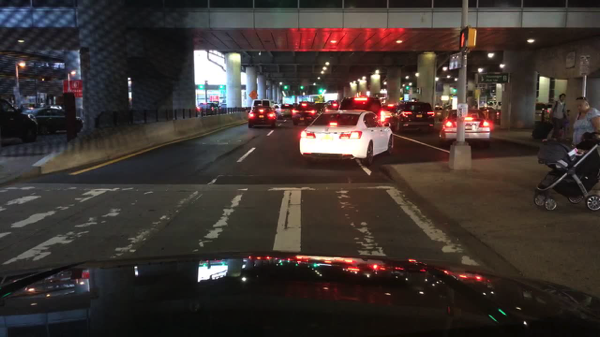car: (299, 109, 393, 166), (438, 109, 491, 147), (22, 106, 84, 137), (338, 95, 391, 130), (0, 97, 39, 143), (389, 100, 434, 135), (247, 104, 276, 129), (292, 102, 317, 125), (250, 99, 272, 115), (534, 102, 548, 123), (279, 103, 293, 119), (325, 99, 339, 110), (202, 103, 219, 112), (489, 109, 499, 124), (271, 103, 281, 118), (381, 104, 395, 113), (195, 102, 207, 111), (545, 103, 553, 115), (484, 108, 493, 118), (220, 103, 227, 109)
person: (570, 96, 599, 146), (549, 94, 565, 142), (575, 132, 596, 149), (562, 109, 571, 140)
traffic light: (459, 26, 476, 51), (281, 85, 290, 92), (316, 88, 323, 94), (403, 84, 409, 91), (297, 85, 305, 90), (198, 84, 204, 90), (451, 88, 457, 94), (218, 85, 225, 90)
traffic sign: (475, 72, 509, 85), (61, 80, 84, 99), (448, 53, 462, 70), (579, 55, 590, 76), (248, 89, 258, 102), (312, 94, 325, 103), (409, 87, 421, 95), (209, 95, 220, 102), (301, 96, 308, 103)
